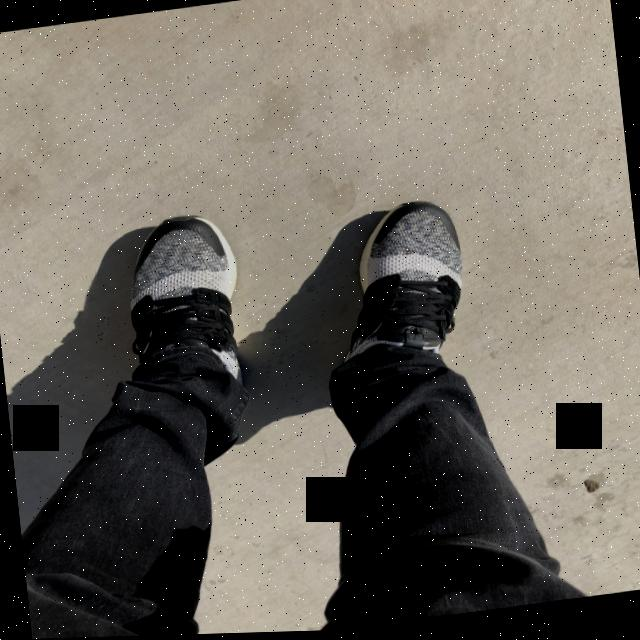shoes: (118, 208, 250, 424), (332, 196, 475, 375)
